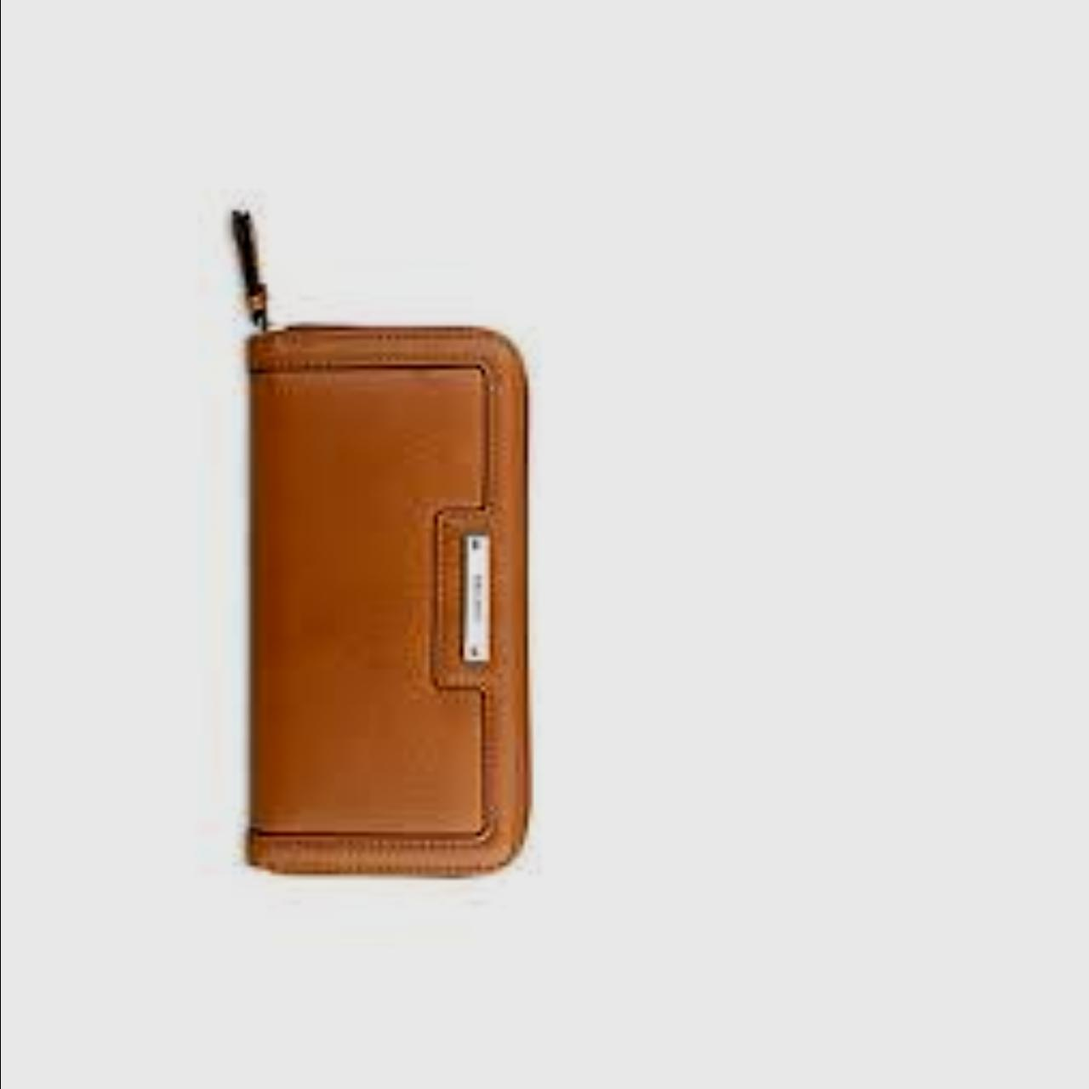wallet: (234, 307, 530, 898)
